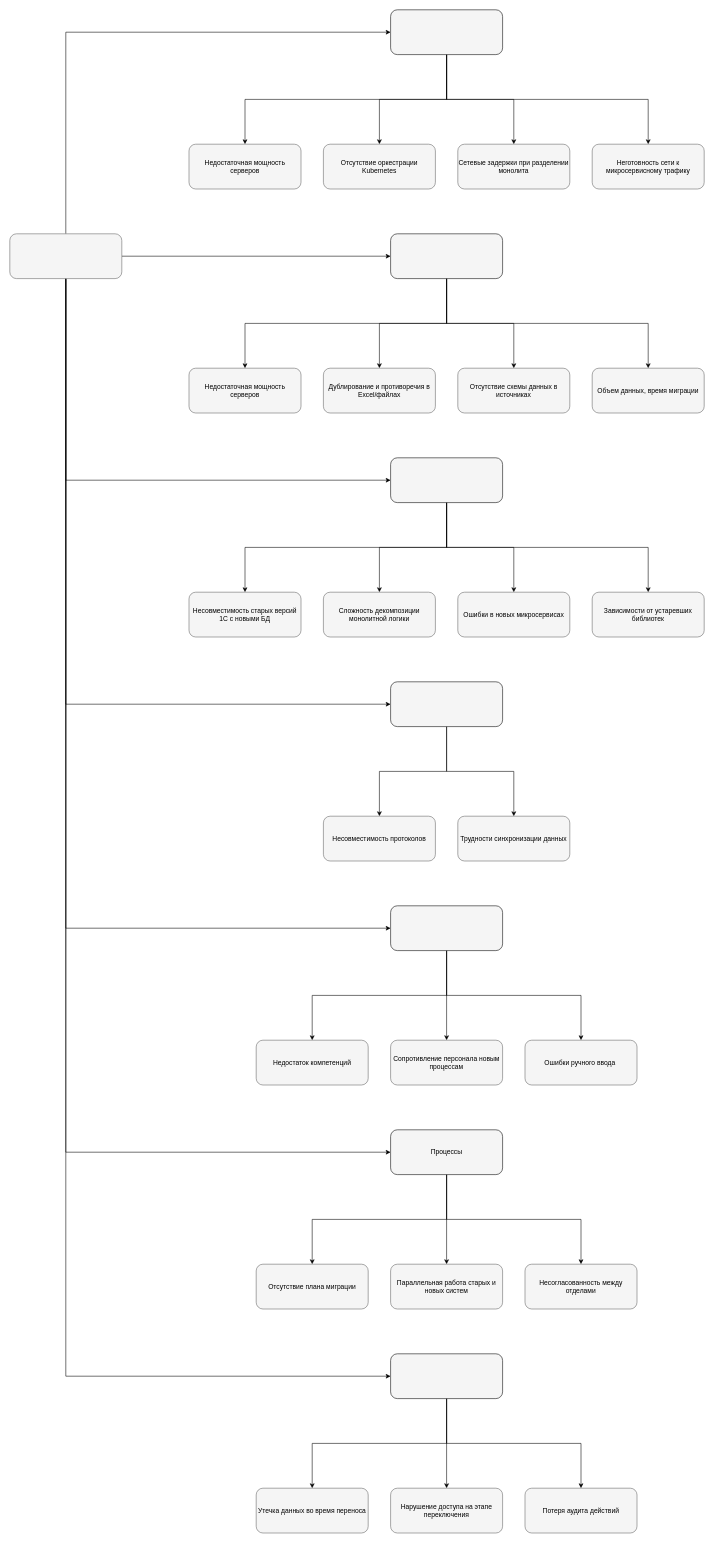
The diagram is 714 pixels wide and 1543 high, and some of its shapes have lost their labels. The shapes that lost their labels are listed below. From the top down, each one's centre as x and y in pixels, then its label:
the point at 446,32: Инфраструктура
the point at 65,256: Узкие места при миграции
the point at 446,256: Данные
the point at 446,480: Программное обеспечение
the point at 446,704: Интеграция
the point at 446,928: Персонал
the point at 446,1376: Безопасность
